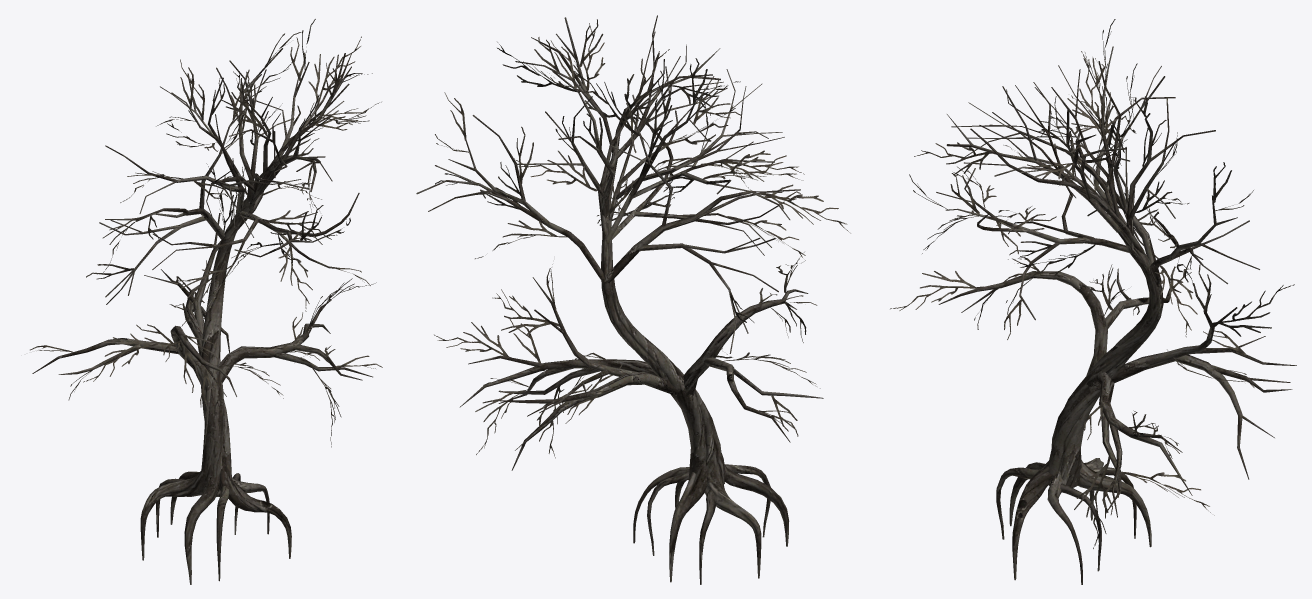
File: Tree1-1-Empty.fbx
3 views of the same model, side by side, from view 1: azimuth 30°, elevation 25°; view 2: azimuth 150°, elevation 25°; view 3: azimuth 270°, elevation 25° (orthographic). The views are drawn at different scales.
Visible parts, largest first — view 1: Tree1-1-Empty_LOD0; view 2: Tree1-1-Empty_LOD0; view 3: Tree1-1-Empty_LOD0.
Boxes of the visible parts, box(x1,y1,x2,y2) form: Tree1-1-Empty_LOD0: box(30, 19, 382, 584); Tree1-1-Empty_LOD0: box(416, 15, 850, 584); Tree1-1-Empty_LOD0: box(890, 19, 1296, 584).
Size of what is drawn, in the model's own units: 3.74 by 3.44 by 4.89.
